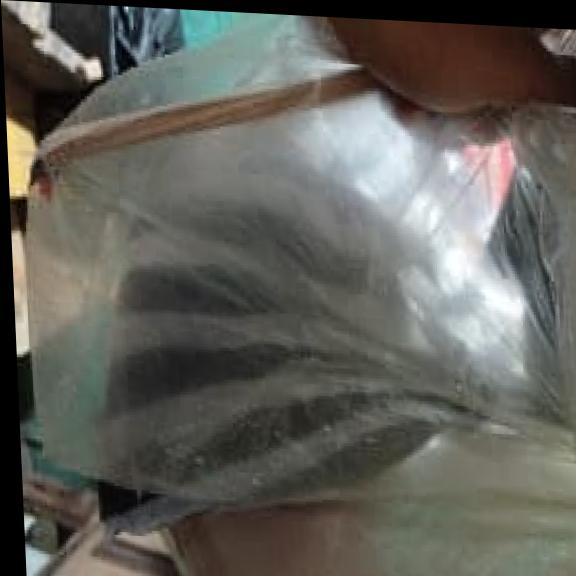Plastik: (27, 93, 525, 500)
